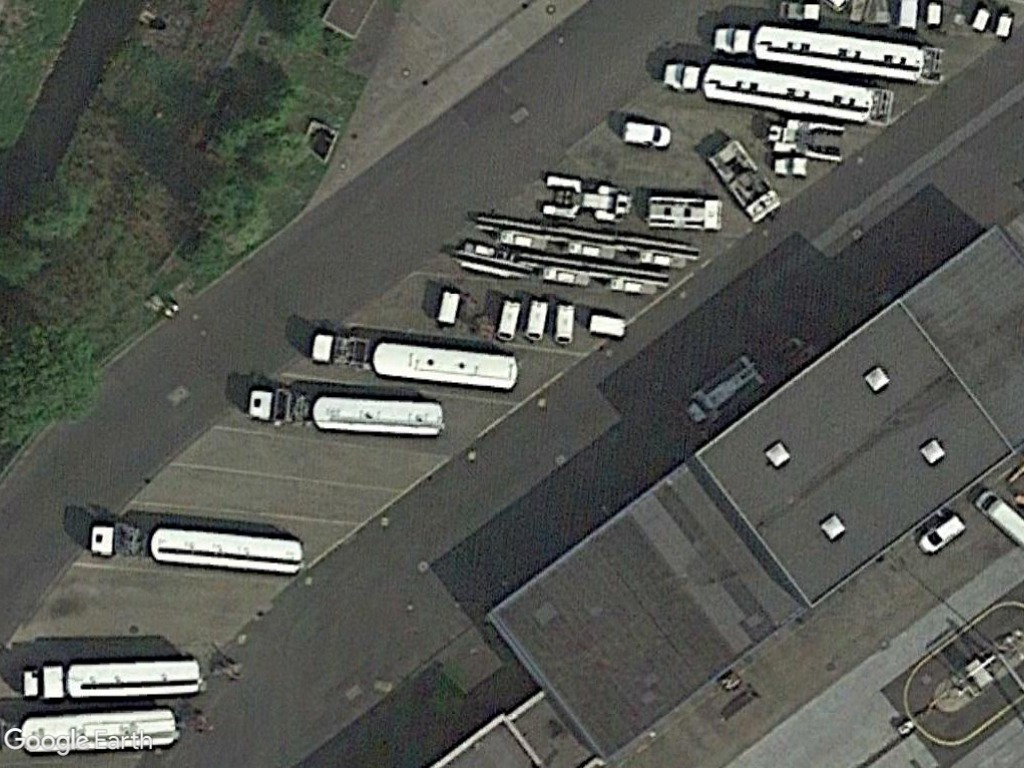longvehicle: (694, 55, 867, 130), (748, 13, 927, 85), (145, 522, 308, 580), (367, 336, 528, 394), (58, 654, 204, 704), (308, 393, 449, 442)
pushbacktruck: (697, 132, 782, 221), (539, 170, 632, 224)
van: (915, 512, 967, 557), (619, 118, 674, 153)
